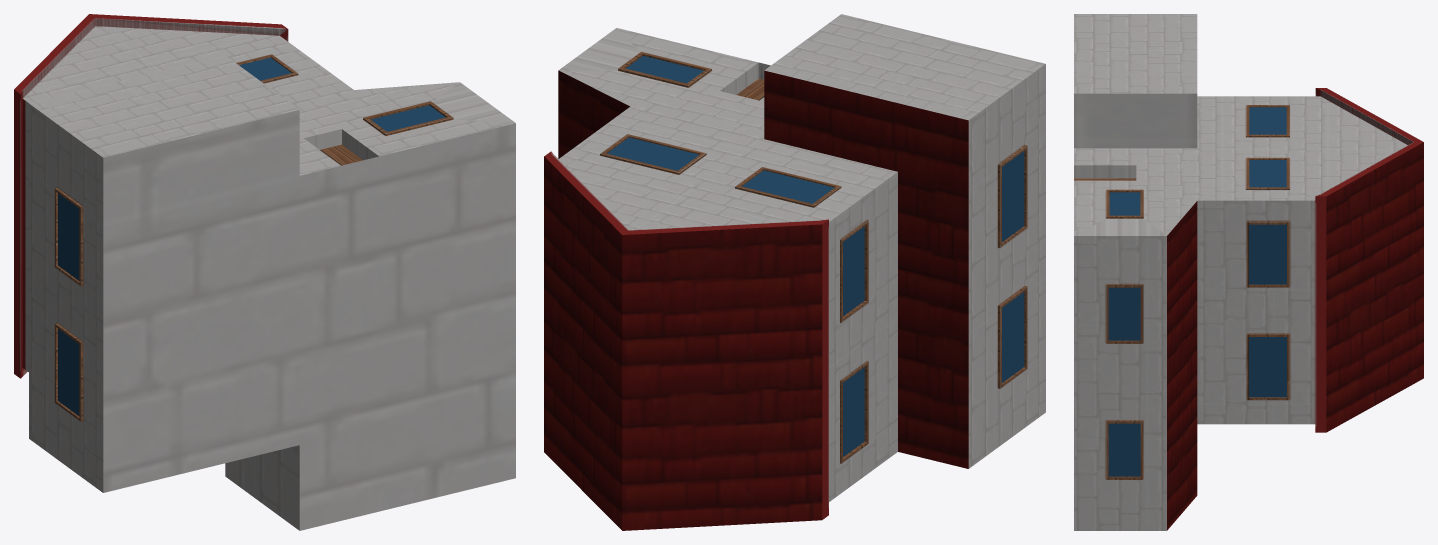
File: house-02.obj
3 renders of one model, left to right at view 1: azimuth 30°, elevation 25°; view 2: azimuth 150°, elevation 25°; view 3: azimuth 270°, elevation 25°, orthographic. The views are drawn at different scales.
Parts seen in each view (by area): view 1: house-02_Cube.061; view 2: house-02_Cube.061; view 3: house-02_Cube.061.
Part boxes in pixels (left/top/right/bottom): house-02_Cube.061: left=14, top=14, right=515, bottom=530; house-02_Cube.061: left=544, top=14, right=1045, bottom=530; house-02_Cube.061: left=1074, top=14, right=1423, bottom=530.
Bounding box in the file's own units: 8.18 × 7.9 × 7.16.
